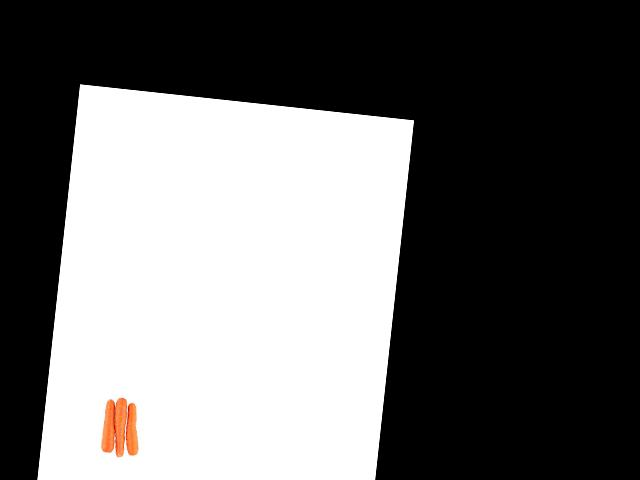carrot: (98, 393, 118, 457)
